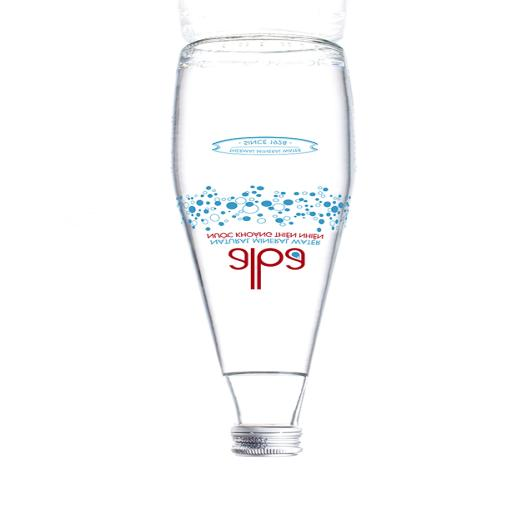bottle: (173, 36, 353, 456)
